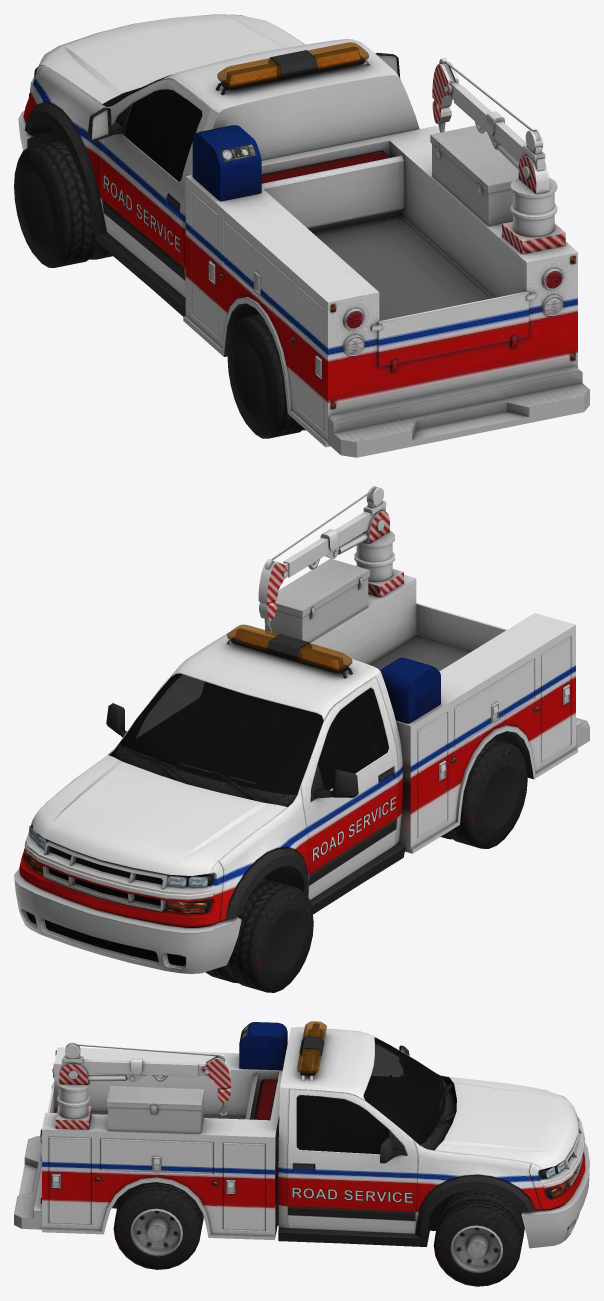
Rendered from rdservtruck.glb.
3 views of the same model, one above another, from view 1: azimuth 30°, elevation 25°; view 2: azimuth 150°, elevation 25°; view 3: azimuth 270°, elevation 25° (orthographic). The views are drawn at different scales.
Visible parts, largest first — view 1: rdservtruck, wheel_0, wheel_2; view 2: rdservtruck, wheel_0, wheel_2; view 3: rdservtruck, wheel_3, wheel_1.
Boxes of the visible parts, x1,y1,x2,y2 form: rdservtruck: (18, 14, 589, 457); wheel_0: (14, 141, 112, 267); wheel_2: (227, 314, 305, 438); rdservtruck: (14, 486, 589, 973); wheel_0: (205, 878, 313, 992); wheel_2: (440, 738, 527, 848); rdservtruck: (14, 1021, 589, 1248); wheel_3: (433, 1190, 524, 1286); wheel_1: (113, 1182, 203, 1269).
Size of the model in its own units: 2.45 by 2.29 by 5.57.
Materials: 5 (5 with a texture image).
